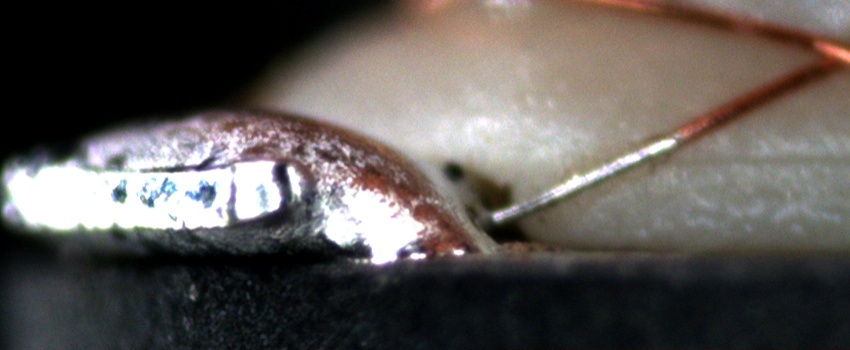DL: (654, 127, 850, 189)
TS: (483, 132, 685, 226)
